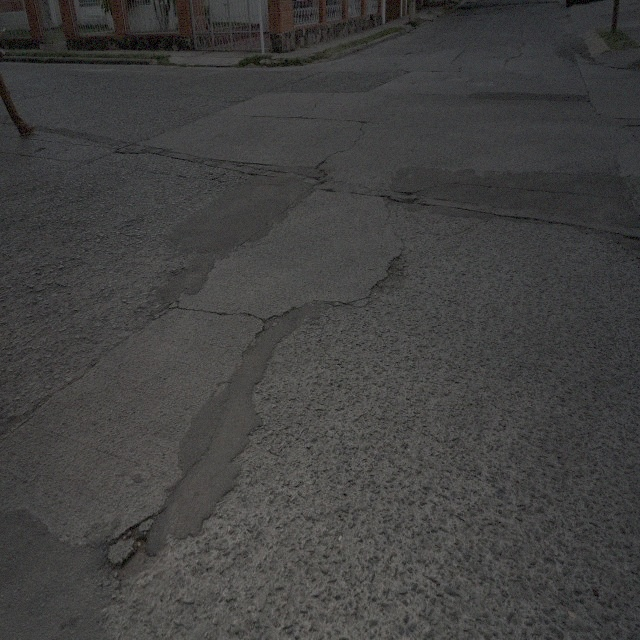pothole: (105, 524, 160, 579), (368, 252, 404, 310)
